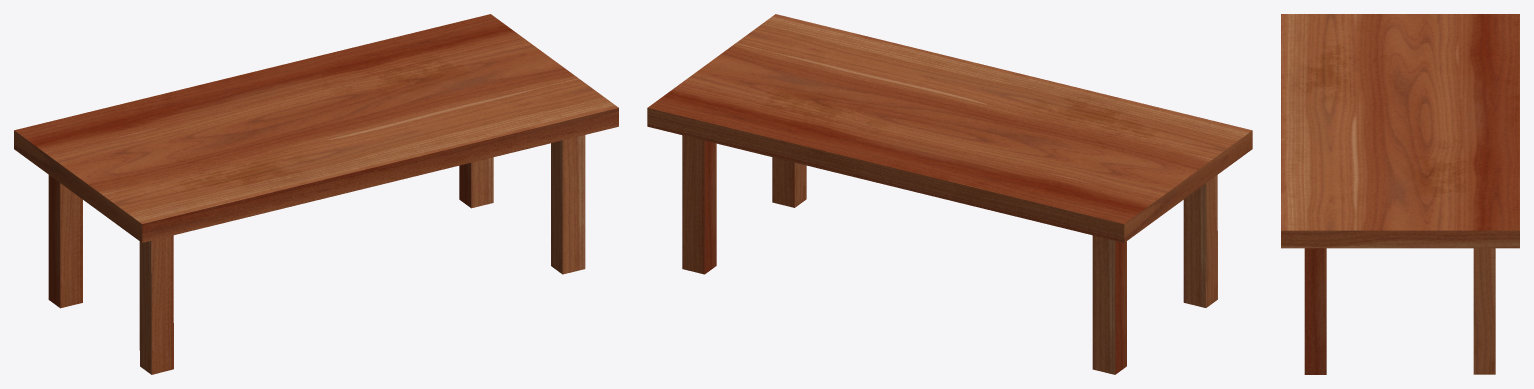
The model's file is Table.fbx.
The picture shows the model from 3 angles, left to right: view 1: azimuth 30°, elevation 25°; view 2: azimuth 150°, elevation 25°; view 3: azimuth 270°, elevation 25°; orthographic projection. The views are drawn at different scales.
Parts seen in each view (by area): view 1: Table; view 2: Table; view 3: Table.
Boxes of the visible parts, x1,y1,x2,y2 form: Table: (14,14,618,374); Table: (647,14,1252,374); Table: (1281,14,1519,374).
Size of the model in its own units: 4.16 by 1.38 by 1.94.
Materials: 2 (2 with a texture image).
